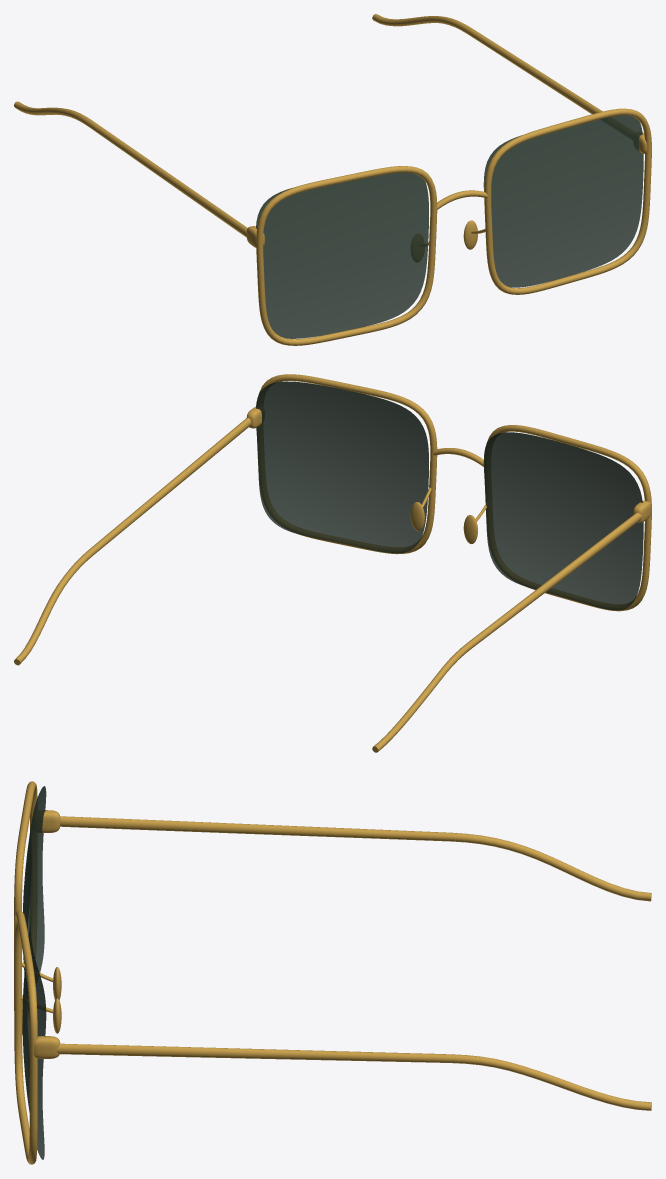
Rendered from TO-SQR-03.glb.
3 views of the same model, one above another, from view 1: azimuth 30°, elevation 25°; view 2: azimuth 150°, elevation 25°; view 3: azimuth 270°, elevation 25° (orthographic). The views are drawn at different scales.
Visible parts, largest first — view 1: lenses, frame; view 2: lenses, frame; view 3: frame, lenses.
Boxes of the visible parts, <box> form: lenses: <box>256,115,643,338</box>; frame: <box>14,14,651,345</box>; lenses: <box>256,381,643,610</box>; frame: <box>14,374,651,752</box>; frame: <box>14,781,651,1164</box>; lenses: <box>22,786,46,1159</box>.
Bounding box in the file's own units: 0.1254 × 0.0488 × 0.1459.
